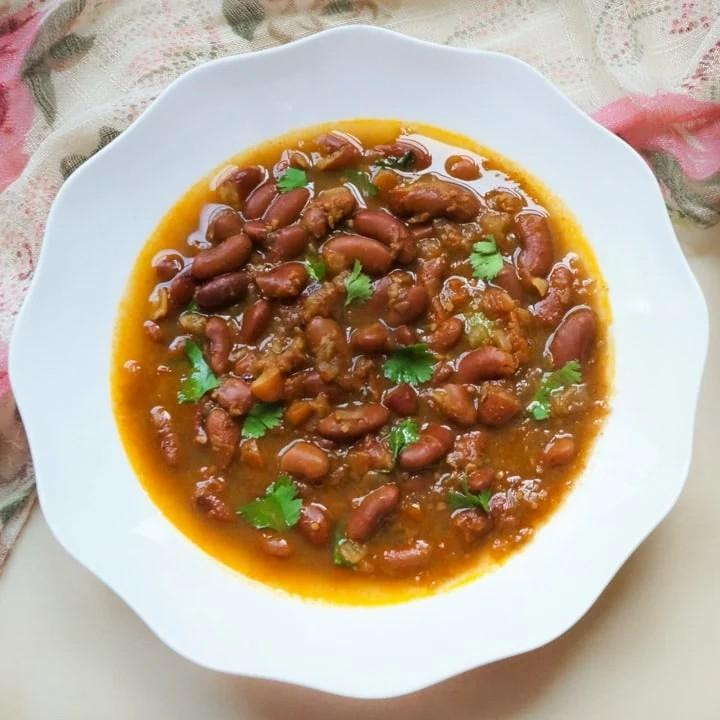RajmaCurry: (118, 123, 614, 599)
